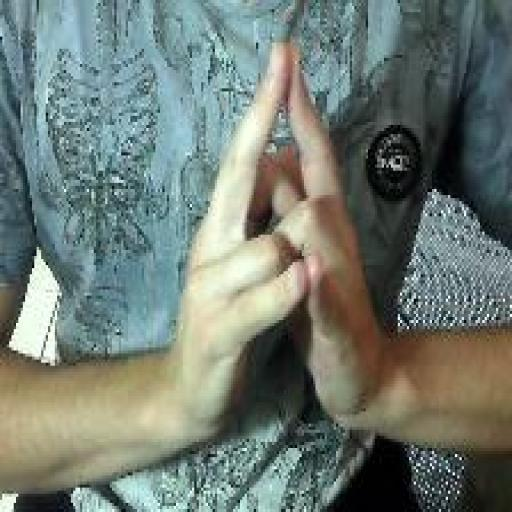Tori -bird-: (170, 35, 385, 443)
